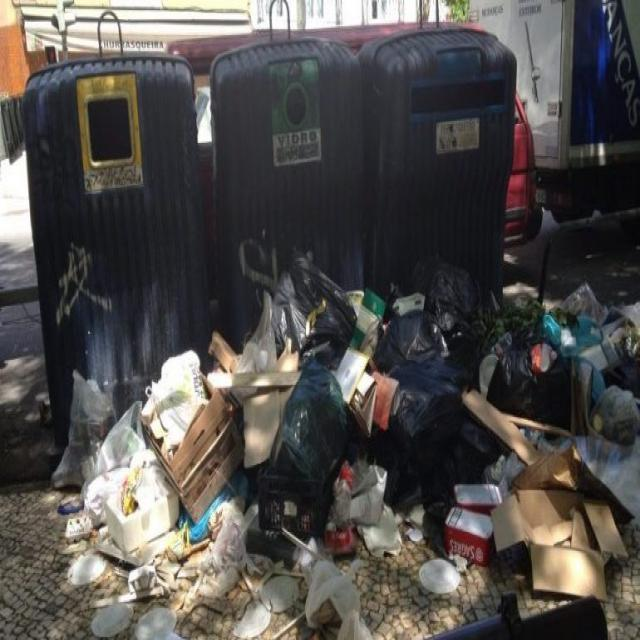garbage: (60, 258, 640, 640)
